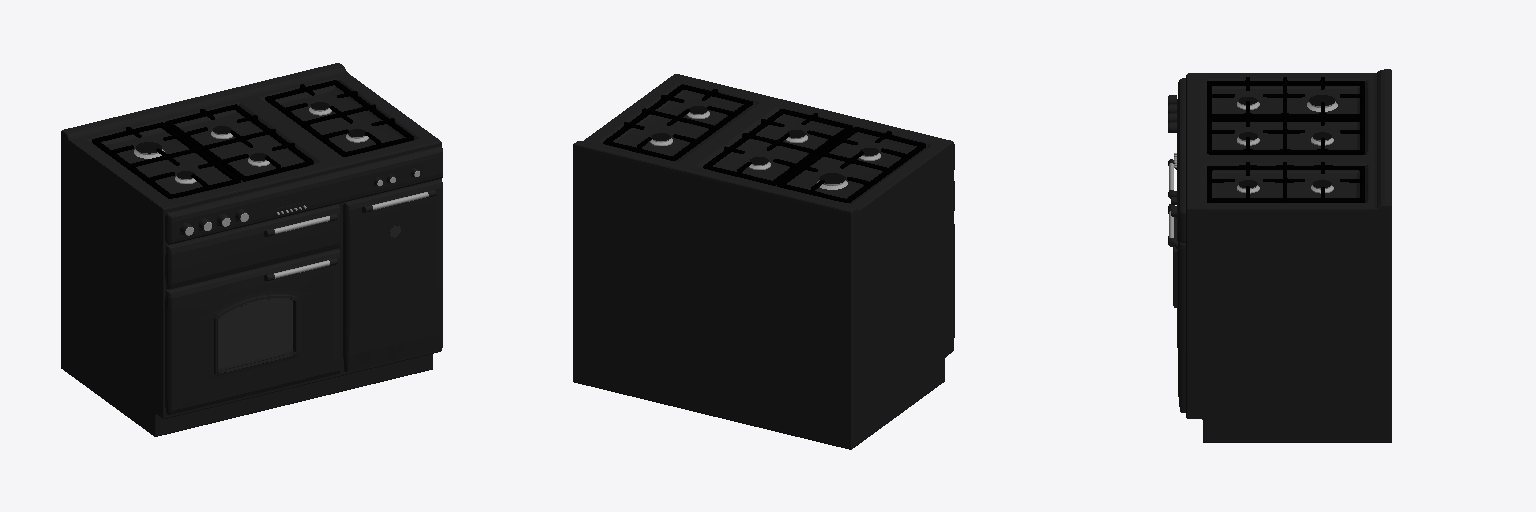
Rendered from largeStove.obj.
The picture shows the model from 3 angles: view 1: azimuth 30°, elevation 25°; view 2: azimuth 150°, elevation 25°; view 3: azimuth 270°, elevation 25°; orthographic projection.
Visible parts, largest first — view 1: Cooker-main_Cube.018, Cooker-Top_Cube.009, Cooker-iron_Cube.032, Cooker-Handles-Top_Cylinder.002, Cooker-Knobs-Left_Cylinder.005; view 2: Cooker-main_Cube.018, Cooker-Top_Cube.009, Cooker-iron_Cube.032; view 3: Cooker-main_Cube.018, Cooker-Top_Cube.009, Cooker-iron_Cube.032.
Part boxes in pixels (x1,y1,x2,y2): Cooker-main_Cube.018: (61,146,442,436); Cooker-Top_Cube.009: (61,63,441,220); Cooker-iron_Cube.032: (92,80,413,198); Cooker-Handles-Top_Cylinder.002: (263,190,435,236); Cooker-Knobs-Left_Cylinder.005: (179,209,248,235); Cooker-main_Cube.018: (573,144,954,449); Cooker-Top_Cube.009: (573,74,953,227); Cooker-iron_Cube.032: (603,84,925,202); Cooker-main_Cube.018: (1173,78,1391,442); Cooker-Top_Cube.009: (1186,69,1391,220); Cooker-iron_Cube.032: (1207,77,1364,202).
Size of the model in its own units: 104 by 85.2 by 72.34.